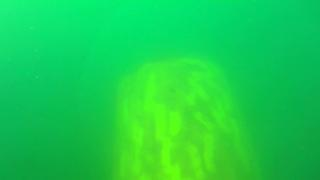pipe: (112, 53, 261, 179)
